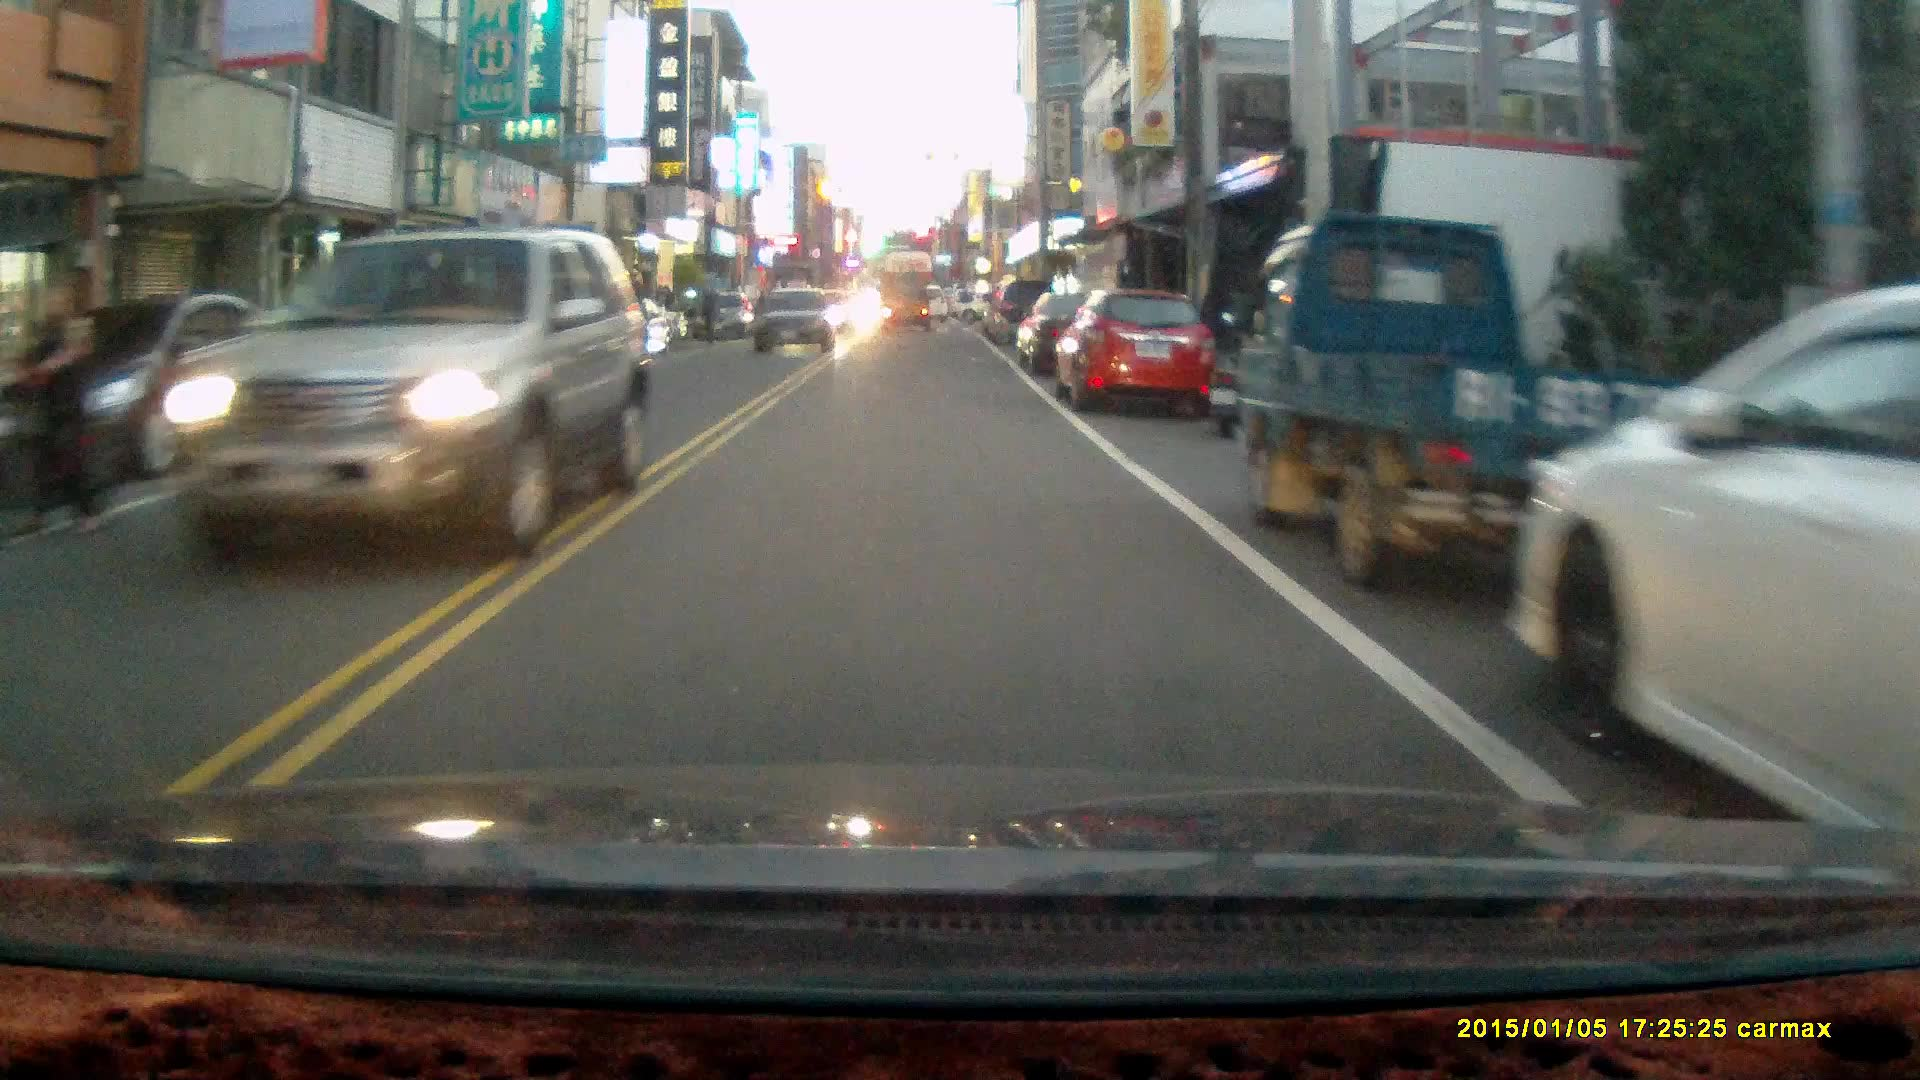pedestrian: (697, 281, 719, 342)
rider: (0, 270, 125, 545)
vehicle: (1507, 294, 1920, 881), (1233, 214, 1719, 597), (157, 231, 645, 561), (1058, 292, 1217, 418), (1009, 287, 1148, 384), (758, 286, 834, 358), (878, 278, 934, 336)
